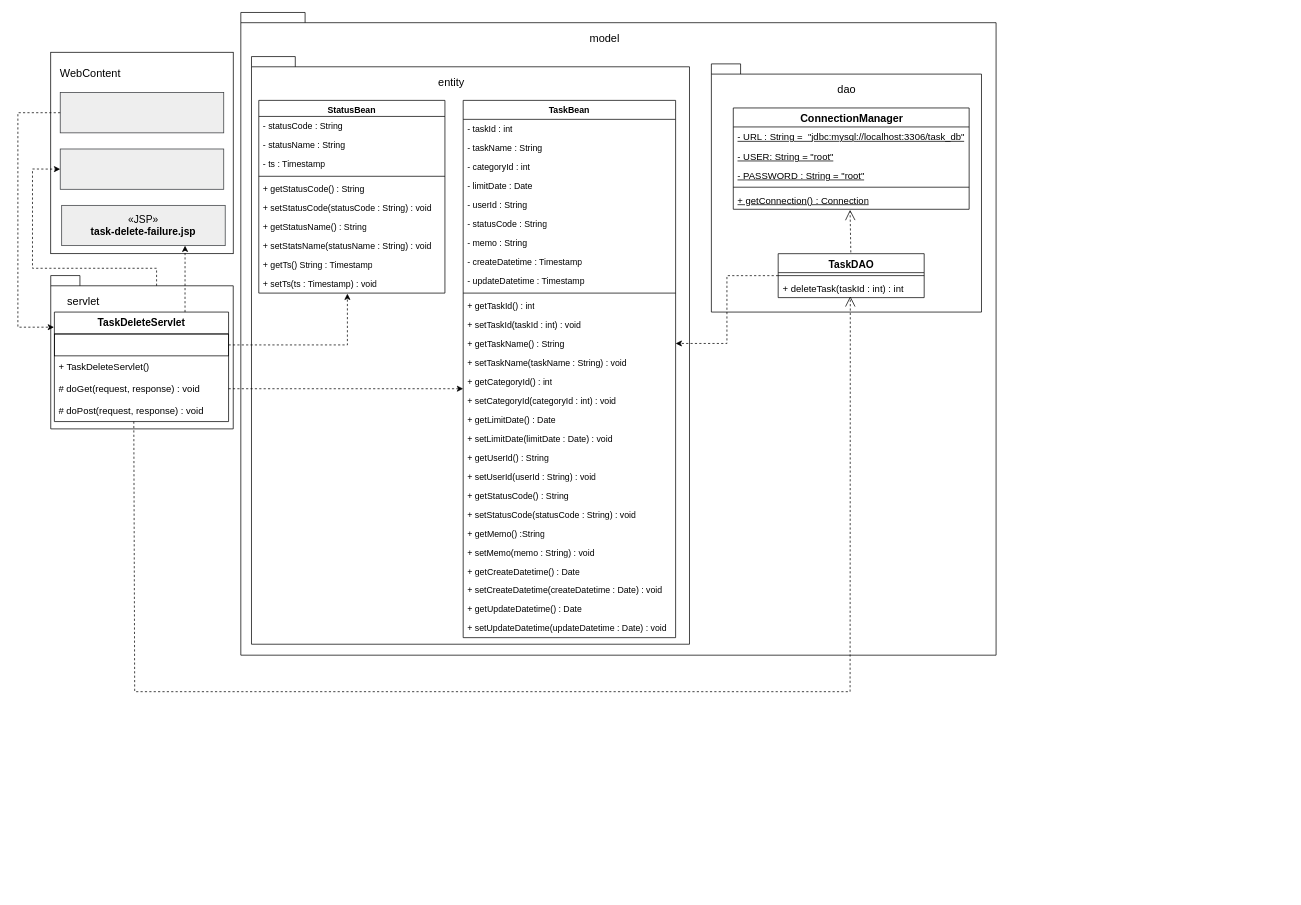
Some shapes in this 1301 by 905 pixel diagram are drawn without their labels. Each missing label, with the centre of its shape:
- serialVersionUID : long = 1L: point 141,344
«JSP» task-delete-succes.jsp: point 141,168
«JSP» task-detail.jsp: point 141,112
